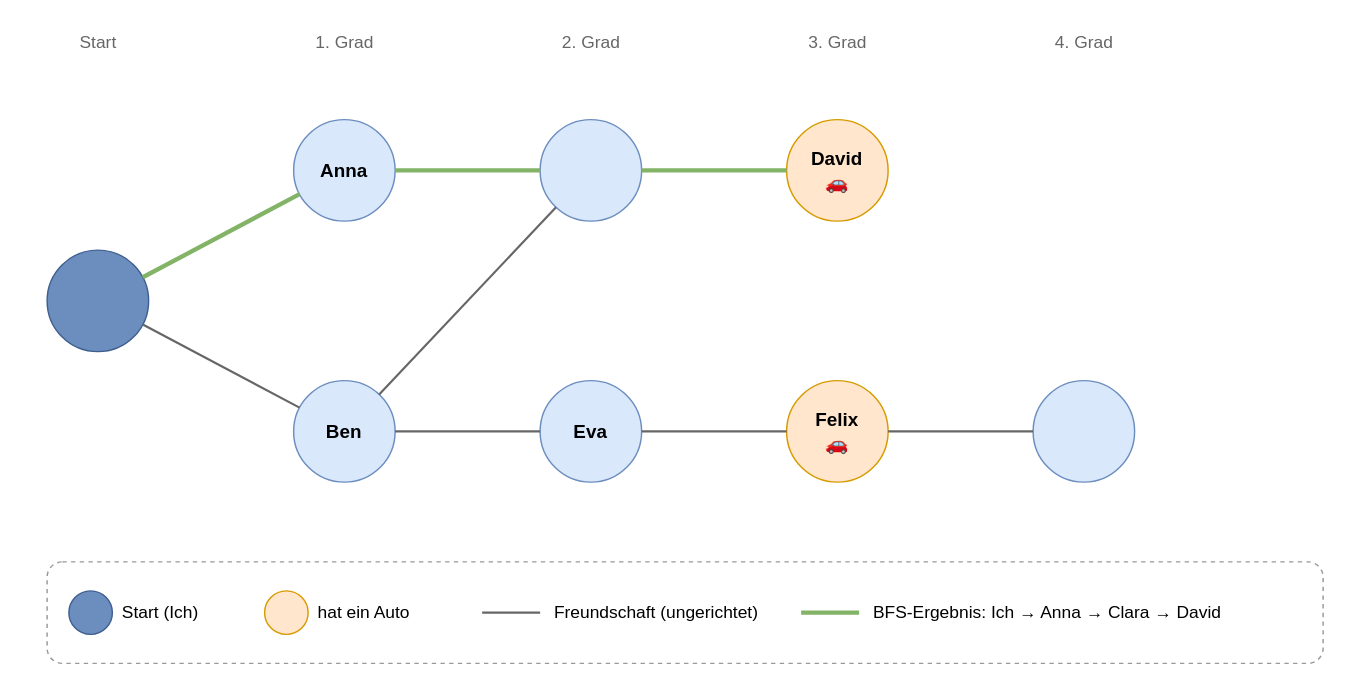
This 1349x689 diagram has some shape labels left out. Here are the shapes that lost their labels. From the top down, the centre of each, then its label:
At point 590,169: "Clara".
At point 97,300: "Ich".
At point 1083,430: "Gina".
